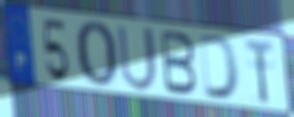5: (40, 17, 71, 82)
B: (159, 28, 199, 98)
D: (198, 32, 242, 102)
O: (74, 19, 119, 91)
T: (243, 36, 276, 106)
U: (115, 23, 159, 94)
